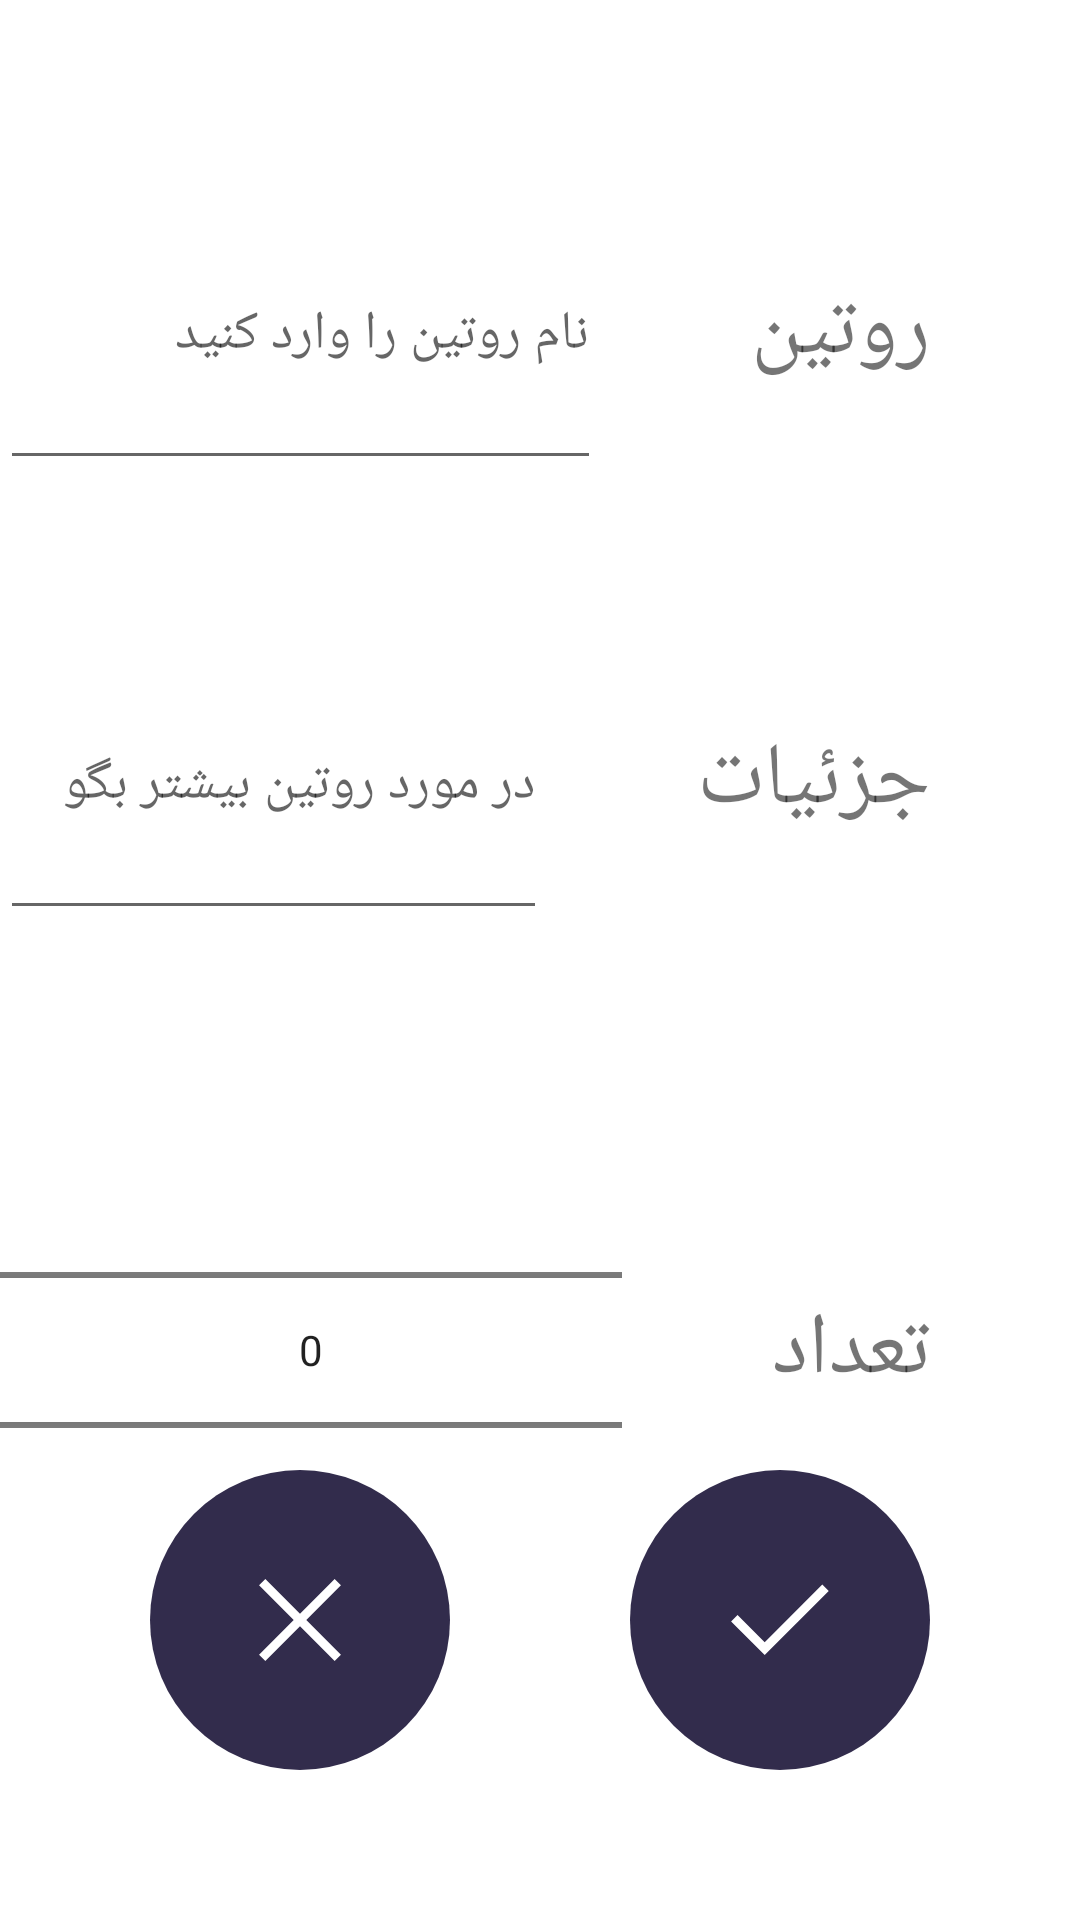

Icon click points for this 1080px x 1920px phone screenshot, format point (x, y):
close: point (300, 1620)
done: point (780, 1620)
